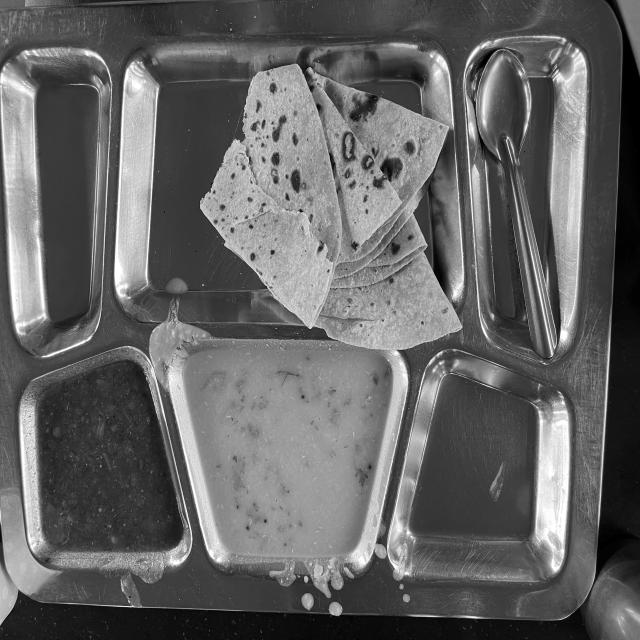50-Food-Left: (7, 28, 589, 592)
